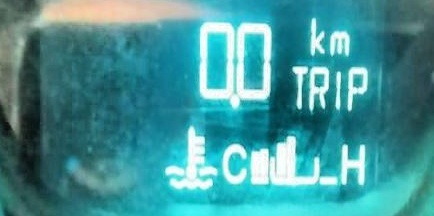-: (228, 93, 239, 110)
0: (194, 16, 233, 100), (235, 16, 272, 100)
X: (336, 139, 367, 187), (219, 138, 248, 186), (344, 62, 369, 111), (307, 63, 329, 110), (288, 61, 308, 110), (306, 13, 325, 55), (327, 28, 350, 57), (331, 64, 344, 110)
